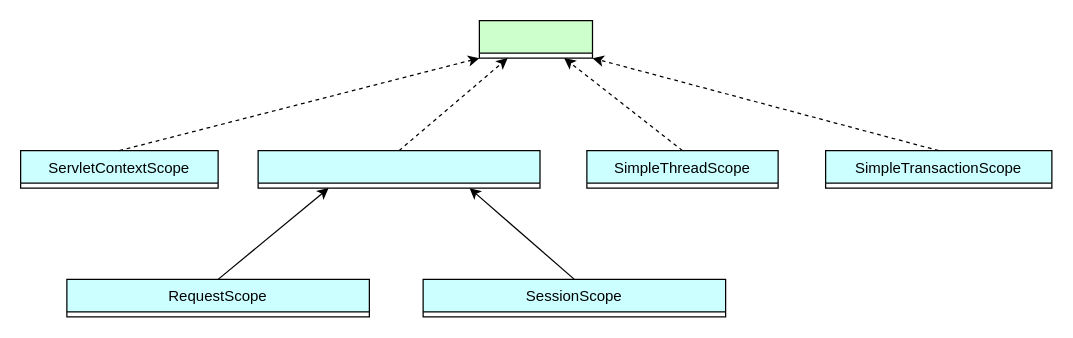
This 1073x338 diagram has some shape labels left out. The shapes that lost their labels are listed below. From the top down, each one's centre as x and y in pixels, then its label:
(x=535, y=38): Scope
(x=398, y=168): AbstractRequestAttributesScope
